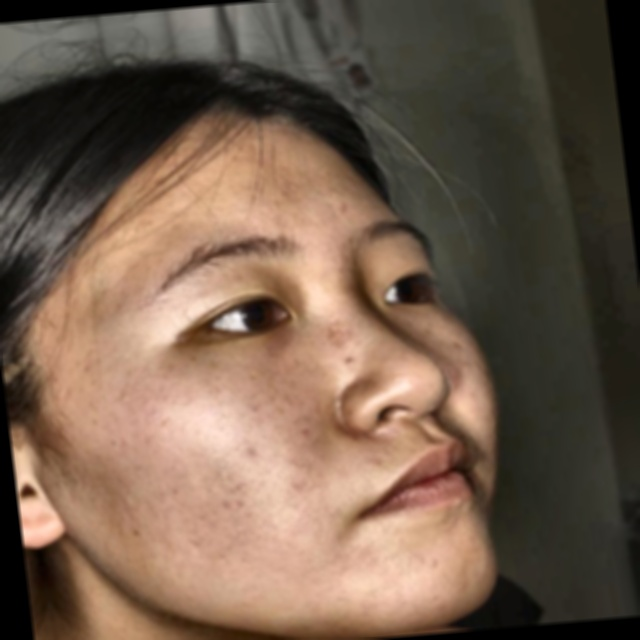comedone: (325, 348, 370, 381)
